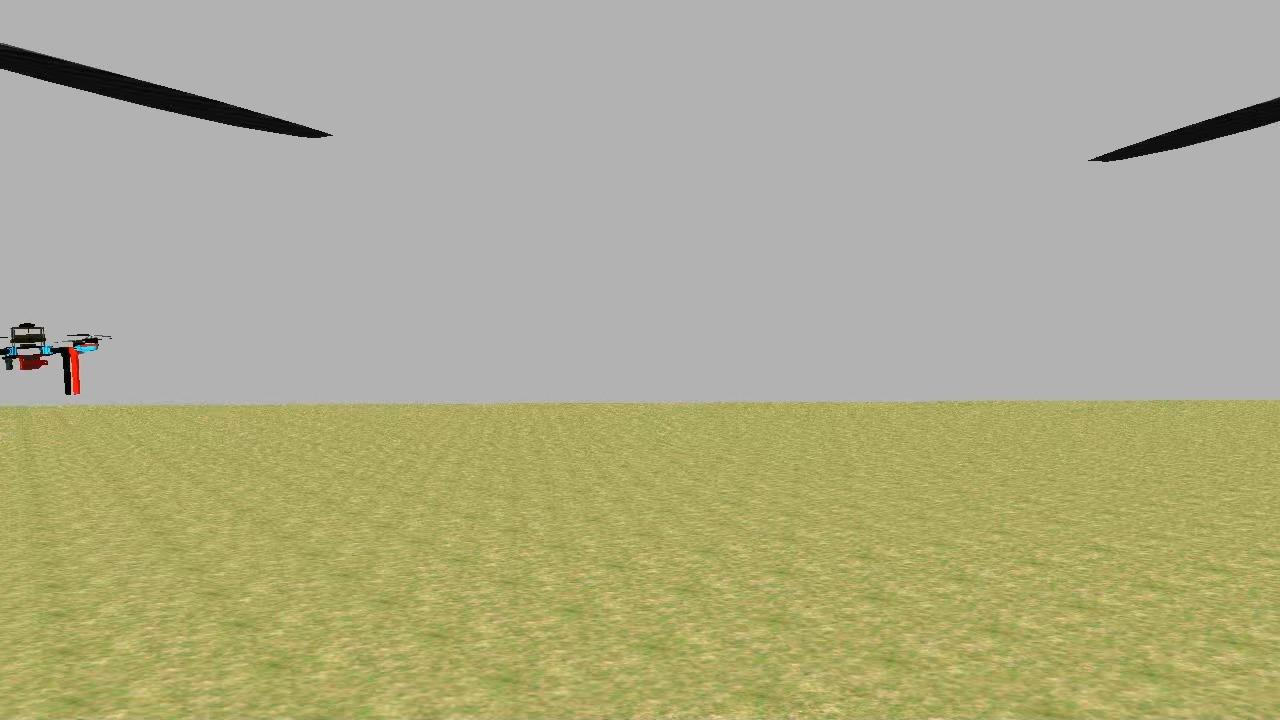UAV: (0, 314, 116, 406)
